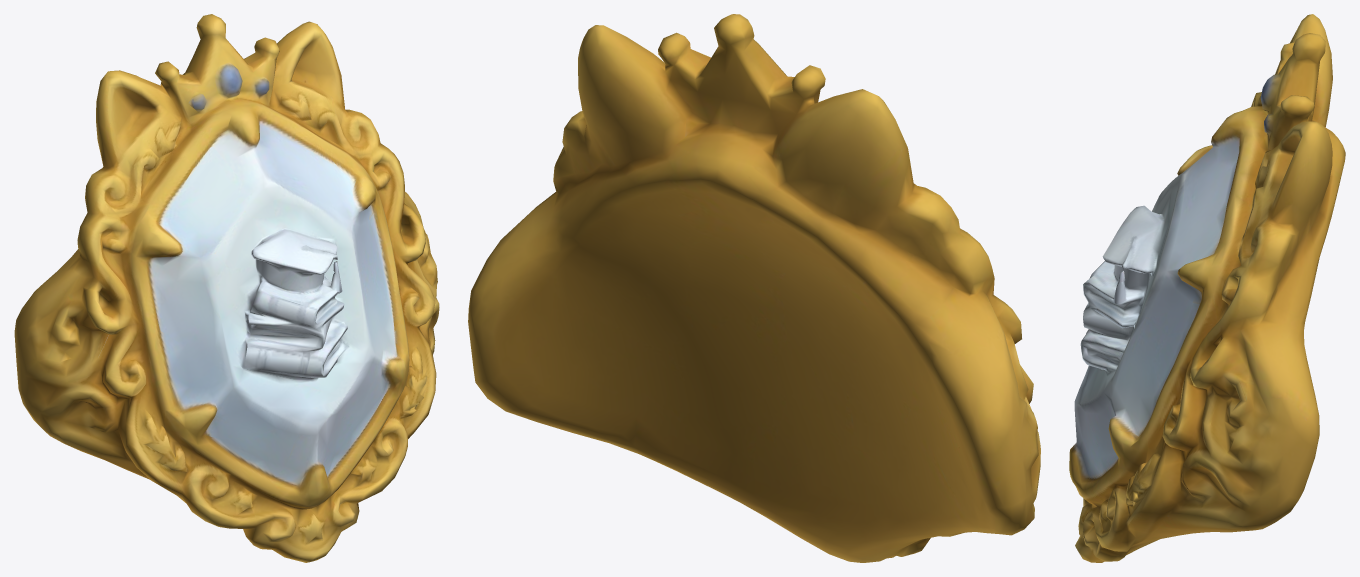
The model's file is prop_crystal.glb.
The picture shows the model from 3 angles, left to right: view 1: azimuth 30°, elevation 25°; view 2: azimuth 150°, elevation 25°; view 3: azimuth 270°, elevation 25°; orthographic projection. The views are drawn at different scales.
Visible parts, largest first — view 1: tripo_node_21ca038e-7f72-489f-a203-941bafa383bb; view 2: tripo_node_21ca038e-7f72-489f-a203-941bafa383bb; view 3: tripo_node_21ca038e-7f72-489f-a203-941bafa383bb.
Boxes of the visible parts, box(x1,y1,x2,y2) form: tripo_node_21ca038e-7f72-489f-a203-941bafa383bb: box(14, 14, 439, 562); tripo_node_21ca038e-7f72-489f-a203-941bafa383bb: box(468, 14, 1040, 562); tripo_node_21ca038e-7f72-489f-a203-941bafa383bb: box(1069, 14, 1345, 562).
Bounding box in the file's own units: 0.9027 × 1 × 0.4786.
Materials: 1 (1 with a texture image).
